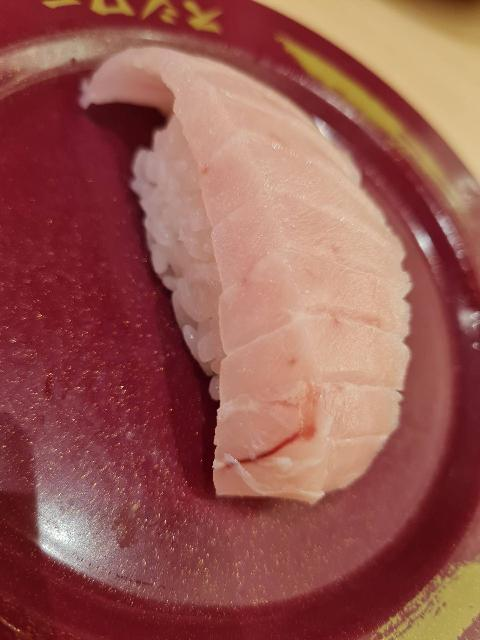janred: (0, 2, 480, 640)
